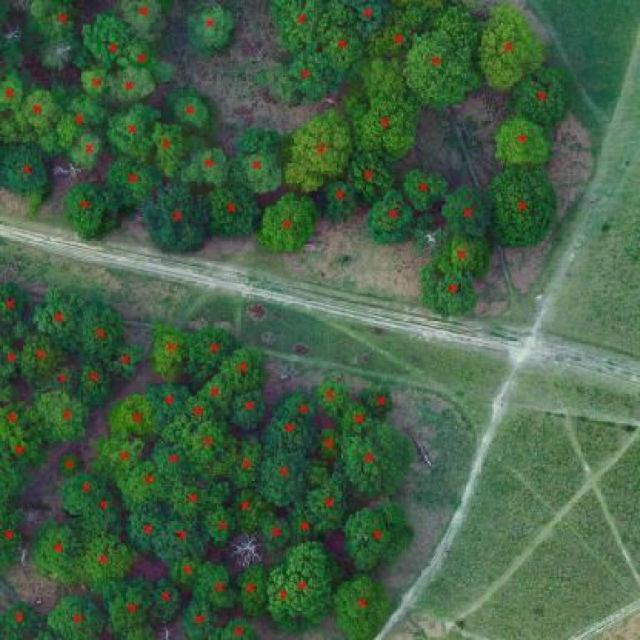tree: (399, 2, 487, 116), (344, 61, 427, 168), (476, 159, 561, 253), (474, 0, 551, 95), (339, 490, 422, 578), (334, 418, 418, 504), (281, 103, 355, 197), (139, 181, 215, 256), (286, 536, 345, 630), (502, 59, 573, 132), (252, 190, 325, 259), (414, 251, 483, 324), (224, 122, 287, 201), (27, 281, 90, 358), (26, 514, 91, 588), (251, 446, 322, 512), (254, 54, 349, 103), (71, 527, 143, 591), (328, 566, 390, 640), (32, 385, 99, 451), (72, 8, 136, 75), (102, 102, 166, 169), (99, 150, 168, 212), (176, 420, 245, 482), (183, 319, 243, 390), (200, 178, 266, 241), (58, 177, 118, 245), (489, 115, 556, 175), (260, 555, 309, 637), (51, 467, 124, 521), (362, 181, 420, 248), (375, 0, 443, 57), (430, 227, 498, 284), (302, 461, 353, 537), (77, 296, 131, 367), (151, 513, 218, 570), (91, 425, 147, 493), (99, 567, 151, 640), (436, 181, 499, 241), (345, 146, 400, 212), (270, 0, 335, 55), (42, 586, 108, 640), (0, 393, 54, 458), (0, 135, 52, 202), (0, 432, 45, 508), (184, 2, 239, 64), (392, 161, 453, 216), (148, 312, 192, 388), (257, 411, 321, 463), (219, 334, 270, 398), (220, 379, 275, 438), (23, 0, 83, 54), (144, 430, 204, 484), (102, 391, 164, 443), (11, 83, 68, 139), (141, 376, 195, 435), (119, 459, 173, 518), (173, 142, 235, 193), (188, 558, 241, 617), (49, 93, 109, 145), (165, 472, 220, 526), (18, 334, 72, 388), (163, 87, 220, 138), (147, 118, 193, 181), (220, 485, 275, 537), (318, 23, 371, 75), (114, 0, 175, 45), (0, 497, 31, 585), (279, 378, 325, 437), (223, 435, 271, 490), (101, 65, 161, 108), (109, 36, 165, 82), (228, 557, 270, 618), (142, 574, 186, 632), (71, 355, 115, 412), (122, 507, 169, 558), (315, 177, 361, 229), (98, 339, 151, 383), (80, 482, 123, 535), (0, 594, 49, 640), (199, 502, 242, 553), (338, 0, 397, 37), (64, 130, 111, 176), (177, 591, 221, 640), (355, 379, 403, 422), (283, 504, 325, 553), (198, 374, 236, 426), (308, 371, 350, 418), (253, 510, 296, 555), (175, 394, 228, 429), (1, 275, 33, 331), (339, 400, 381, 442), (308, 427, 350, 467), (77, 63, 112, 108), (0, 66, 29, 117), (212, 612, 263, 639), (0, 337, 26, 388), (53, 447, 85, 482), (41, 367, 79, 396)
